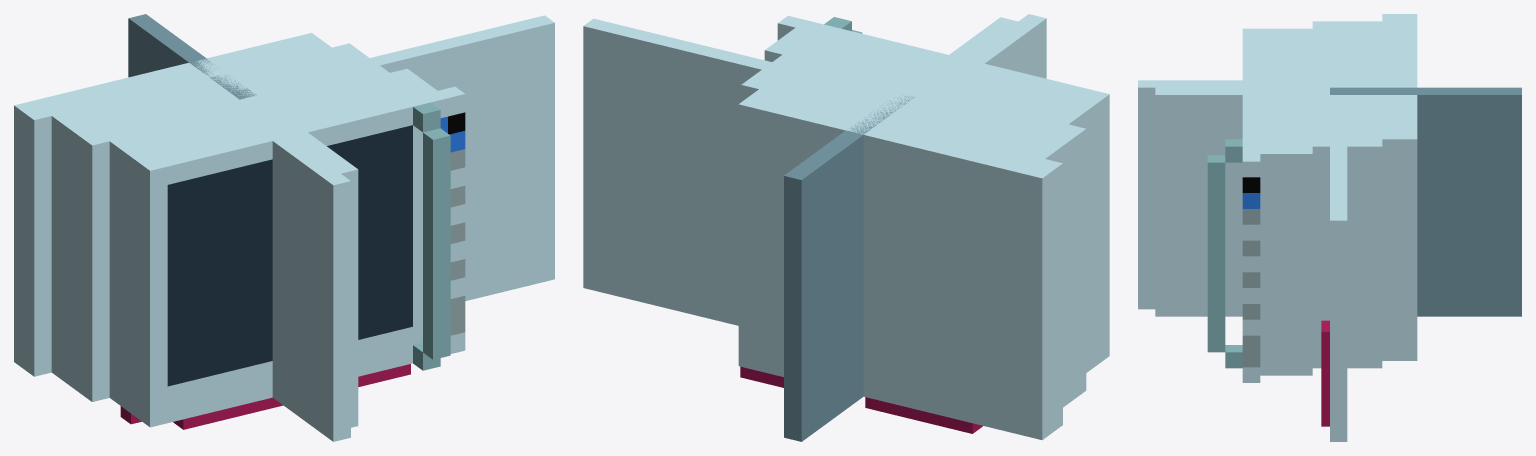
Rendered from microwave.glb.
3 renders of one model, left to right at view 1: azimuth 30°, elevation 25°; view 2: azimuth 150°, elevation 25°; view 3: azimuth 270°, elevation 25°, orthographic. The views are drawn at different scales.
Parts seen in each view (by area): view 1: base, screen, back, sideleft, hence, sideleftin, side, glasses; view 2: base, back, side, sideleft, glasses, sideleftin; view 3: base, side, sideleftin, back, sideleft, hence, glasses.
Part boxes in pixels (x1=…): base: x1=14, y1=33, x2=465, y2=427; screen: x1=167, y1=125, x2=412, y2=386; back: x1=232, y1=15, x2=554, y2=300; sideleft: x1=223, y1=99, x2=350, y2=441; hence: x1=413, y1=102, x2=450, y2=370; sideleftin: x1=250, y1=103, x2=358, y2=427; side: x1=128, y1=14, x2=256, y2=99; glasses: x1=120, y1=364, x2=410, y2=429; base: x1=738, y1=15, x2=1109, y2=440; back: x1=583, y1=18, x2=913, y2=325; side: x1=784, y1=96, x2=914, y2=441; sideleft: x1=917, y1=14, x2=1046, y2=98; glasses: x1=740, y1=366, x2=982, y2=433; sideleftin: x1=923, y1=17, x2=1017, y2=87; base: x1=1242, y1=14, x2=1417, y2=382; side: x1=1330, y1=87, x2=1521, y2=316; sideleftin: x1=1138, y1=87, x2=1312, y2=316; back: x1=1330, y1=87, x2=1347, y2=441; sideleft: x1=1138, y1=80, x2=1329, y2=309; hence: x1=1207, y1=139, x2=1242, y2=368; glasses: x1=1321, y1=320, x2=1329, y2=426.
Size of the model in its own units: 28 by 17 by 22.
Materials: 16 (16 with a texture image).
